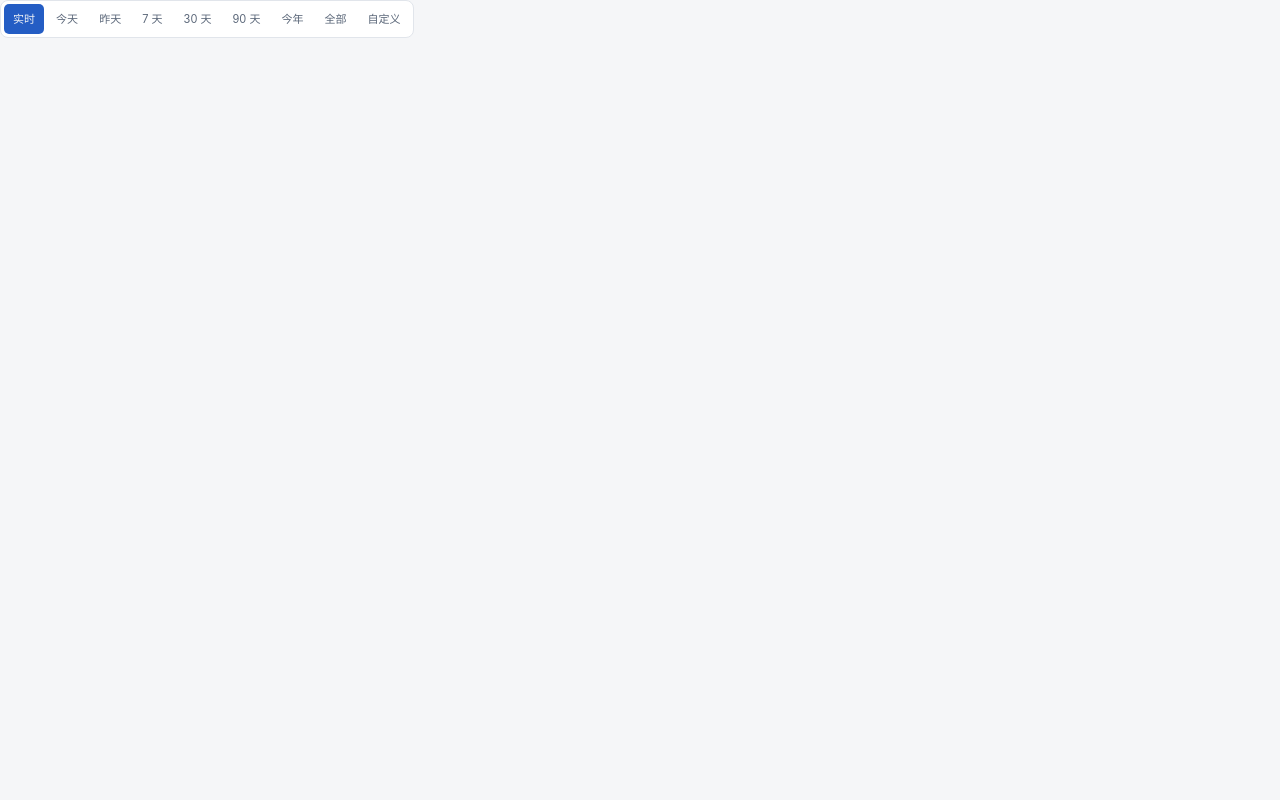
Test case: RangeSelector › moves the calendar between months
The width and height of the screenshot is (1280, 800).
Click the button "自定义" at x=384, y=19, box x1=359 y1=4 x2=410 y2=34
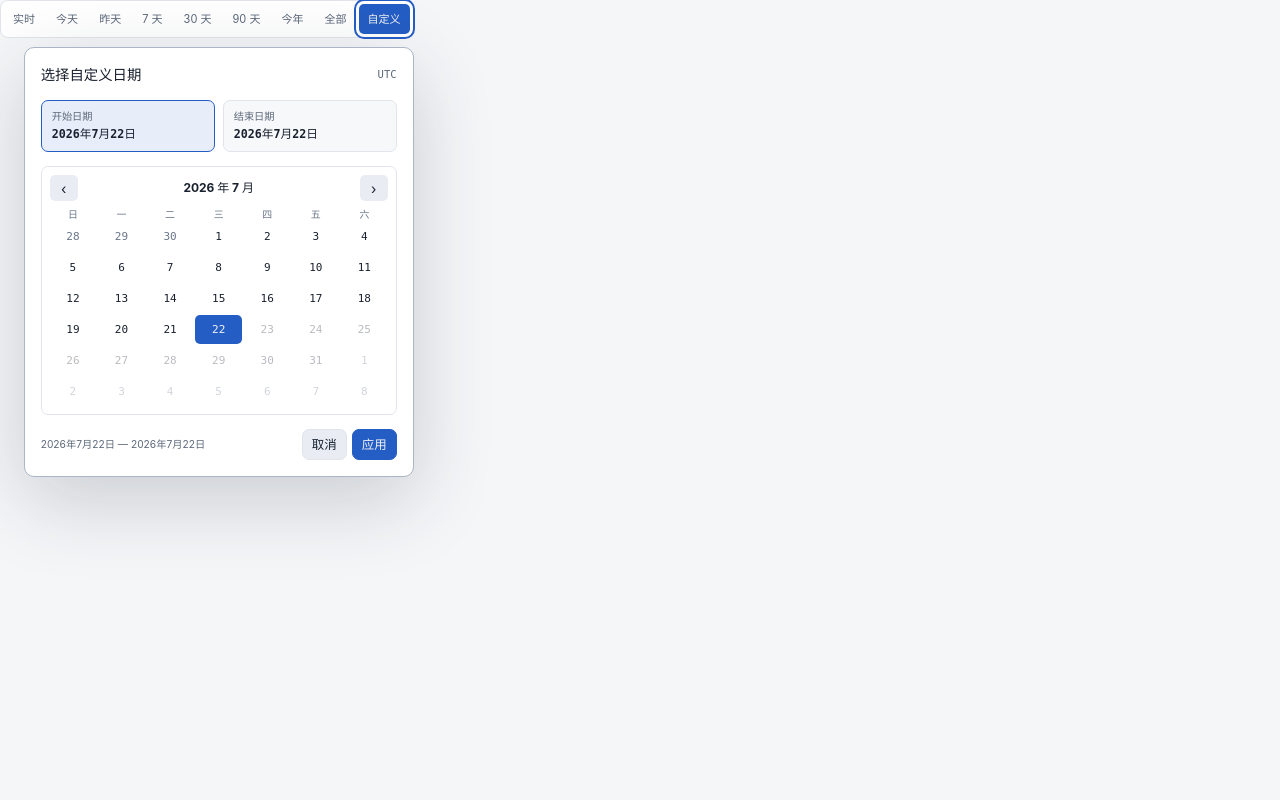
Result: the heading "2026 年 7 月" is shown at x1=183 y1=180 x2=254 y2=198
Click the button named "下个月" at x=374, y=188, box x1=360 y1=176 x2=388 y2=202
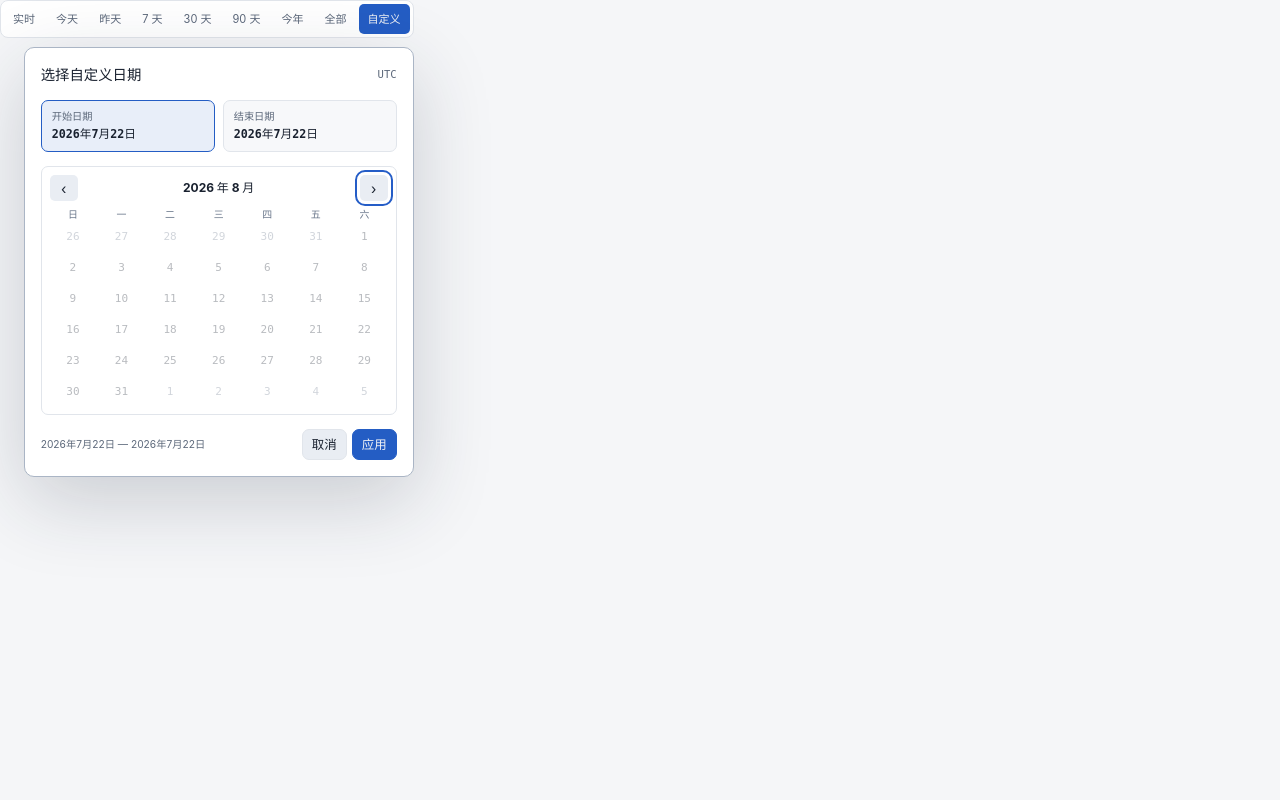
Result: the heading "2026 年 8 月" is shown at x1=183 y1=180 x2=254 y2=198
Click the button named "上个月" at x=64, y=188, box x1=50 y1=176 x2=78 y2=202
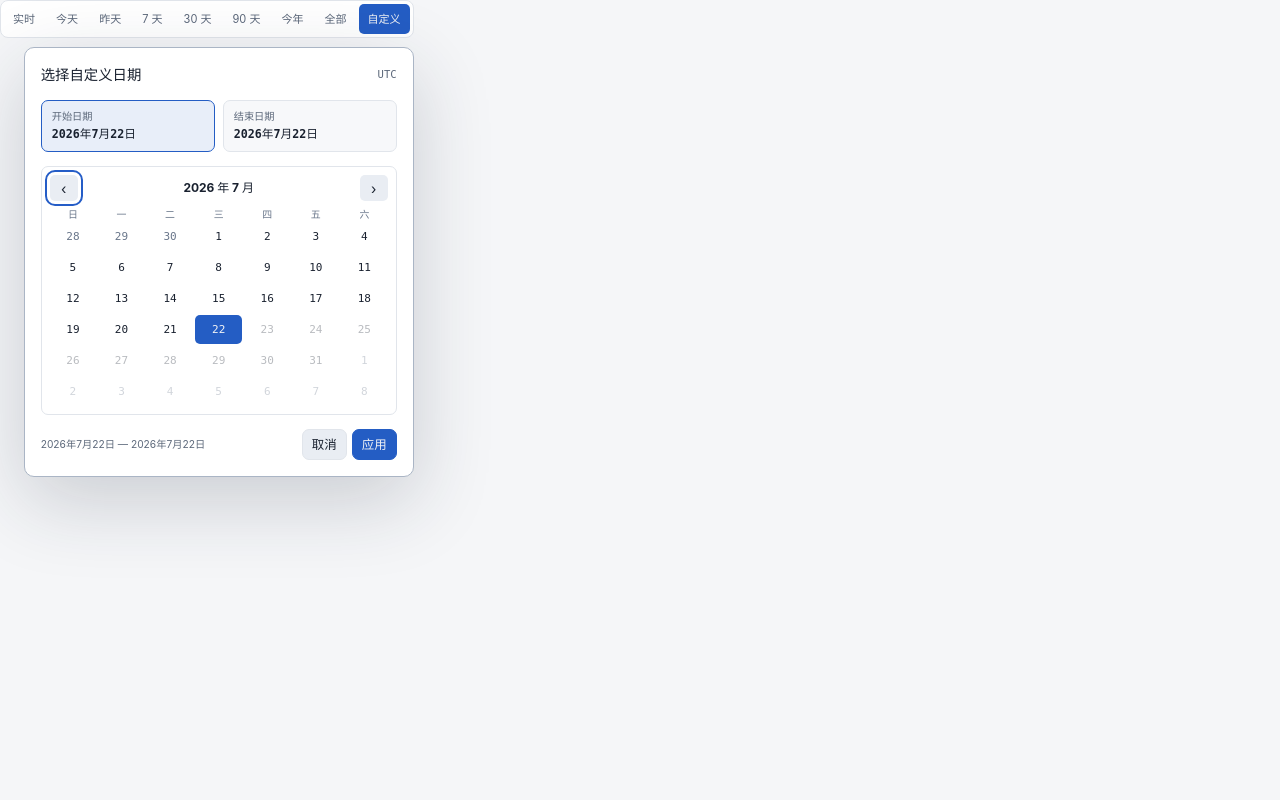
Result: the heading "2026 年 7 月" is shown at x1=183 y1=180 x2=254 y2=198
